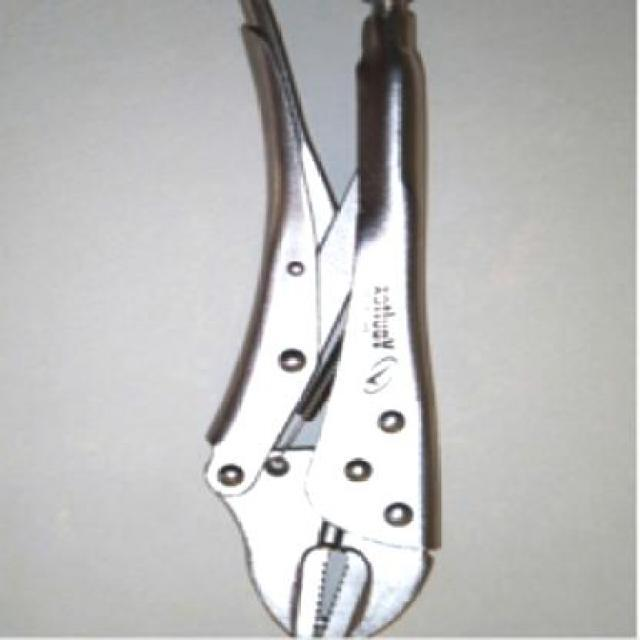pliers: (200, 0, 452, 637)
